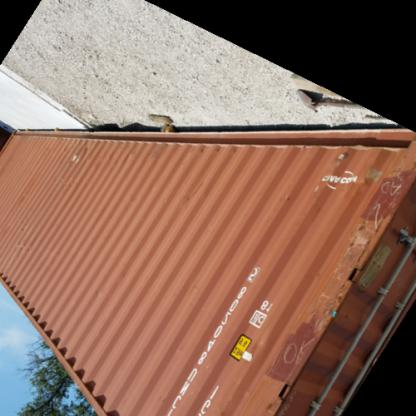Damage: (336, 172, 406, 280), (270, 311, 330, 381), (14, 222, 36, 260), (67, 145, 84, 176)
